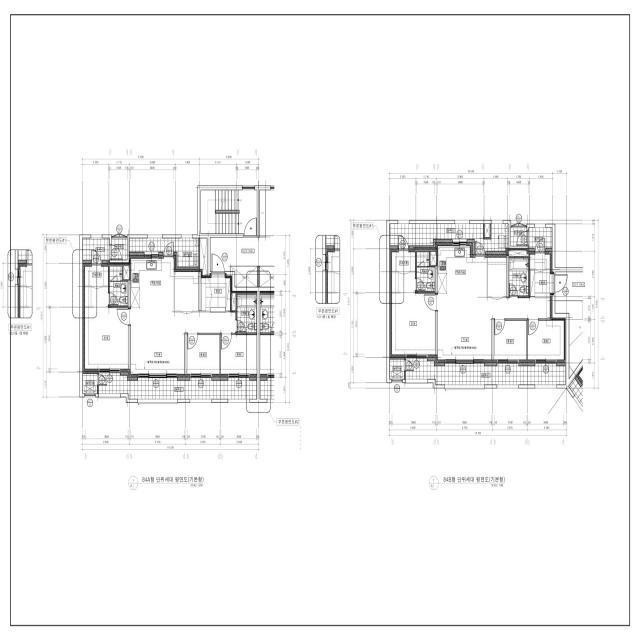space_balconi: (406, 358, 565, 385), (99, 373, 257, 399), (390, 224, 508, 256), (130, 238, 199, 267), (83, 238, 109, 264), (529, 228, 552, 252)
space_bedroom: (83, 308, 128, 372), (390, 293, 435, 355), (221, 335, 257, 377), (528, 321, 566, 360), (187, 335, 220, 377), (494, 321, 526, 360)
space_dressroom: (83, 263, 108, 308), (390, 252, 415, 292)
space_elevator_hall: (210, 237, 260, 272), (555, 272, 583, 301)
space_front: (201, 273, 231, 312), (530, 270, 554, 298)
space_kitchen: (438, 246, 487, 298), (131, 255, 174, 309)
space_living_room: (130, 309, 236, 377), (438, 298, 552, 360)
space_other: (175, 269, 199, 311), (488, 255, 506, 297), (231, 267, 257, 287), (112, 238, 127, 260), (530, 255, 552, 269), (510, 228, 527, 246), (200, 238, 207, 275), (509, 250, 529, 256), (123, 266, 129, 280), (430, 252, 436, 265), (232, 293, 236, 310), (485, 224, 490, 237)
space_outdoor_room: (83, 374, 97, 394), (390, 360, 404, 379)
space_staircase: (201, 190, 257, 234)
space_toilet: (509, 258, 529, 296), (109, 266, 128, 306), (237, 295, 257, 333), (417, 252, 435, 292)
